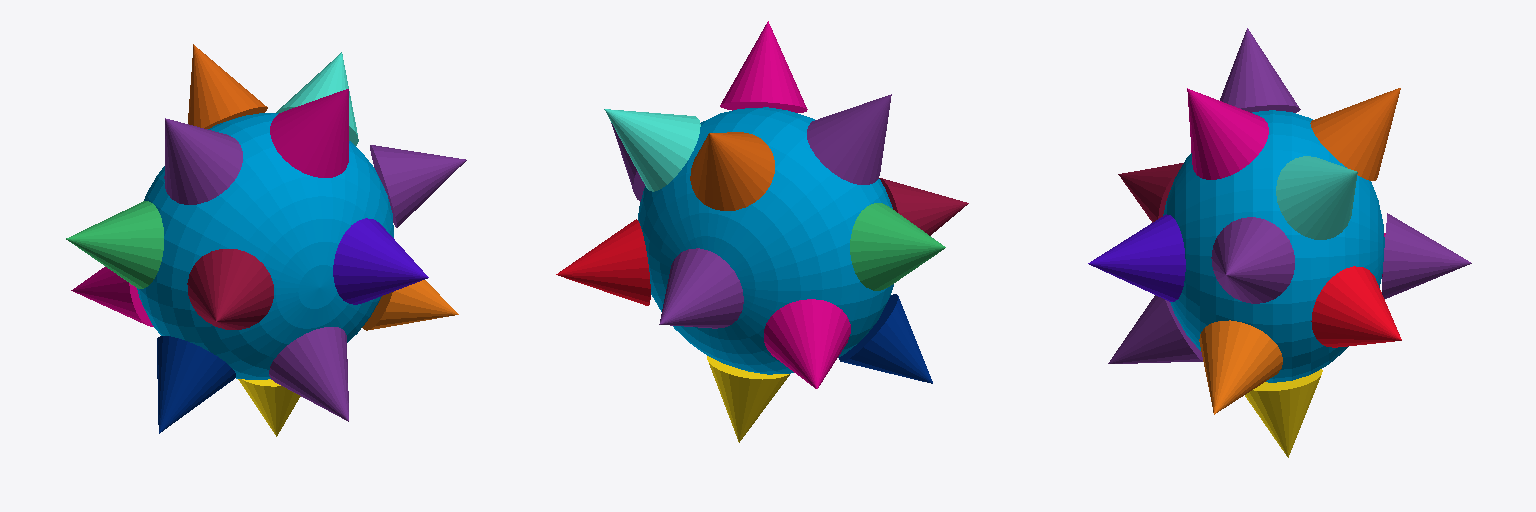
The model's file is tinker.obj.
3 views of the same model, side by side, from view 1: azimuth 30°, elevation 25°; view 2: azimuth 150°, elevation 25°; view 3: azimuth 270°, elevation 25° (orthographic).
Visible parts, largest first — view 1: obj_0; view 2: obj_0; view 3: obj_0.
Part boxes in pixels (bbox=[...]): obj_0: bbox=[66, 44, 466, 436]; obj_0: bbox=[556, 21, 968, 442]; obj_0: bbox=[1088, 28, 1471, 457].
Bounding box in the file's own units: 96.44 × 95 × 87.16.